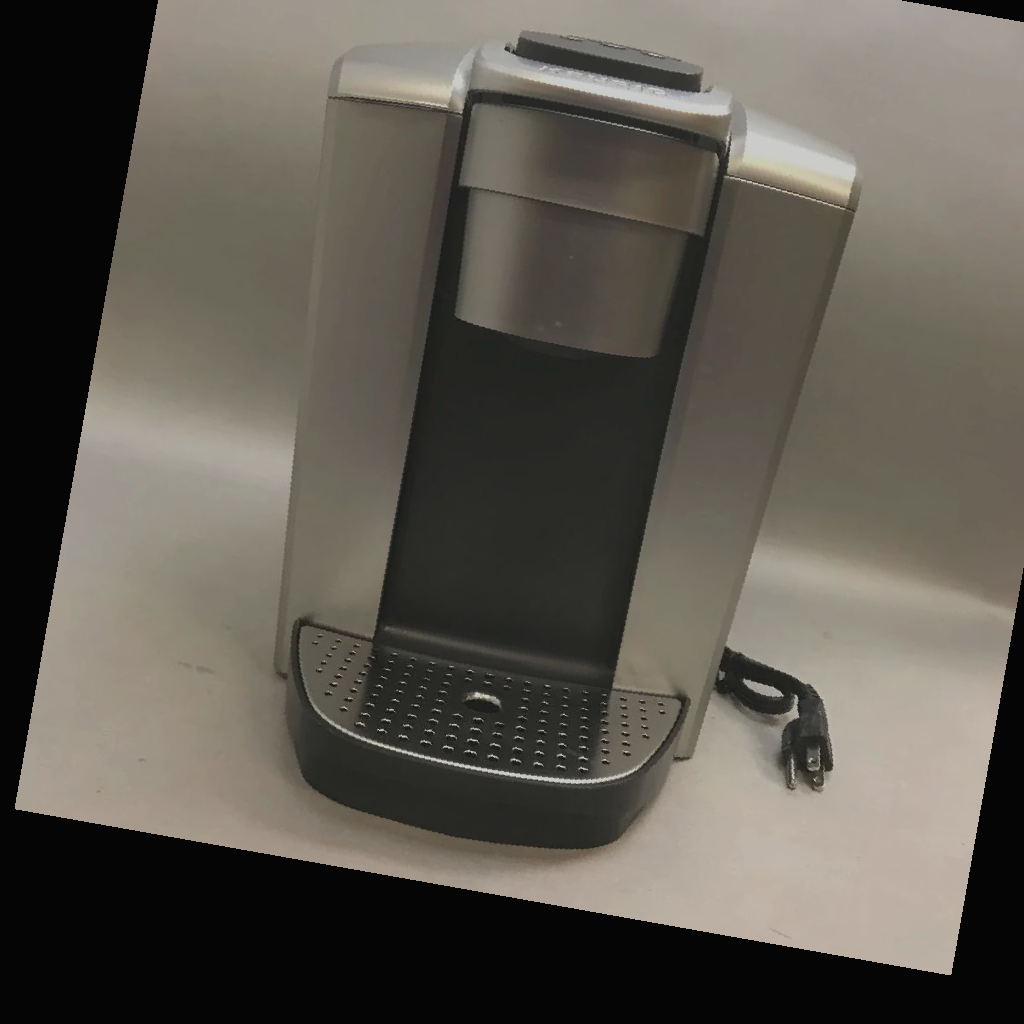platform: (459, 685, 504, 716)
